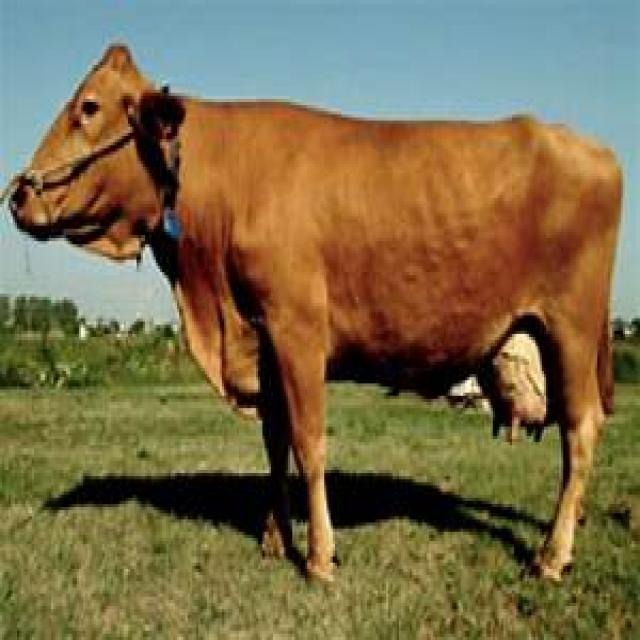cow: (8, 45, 620, 581)
